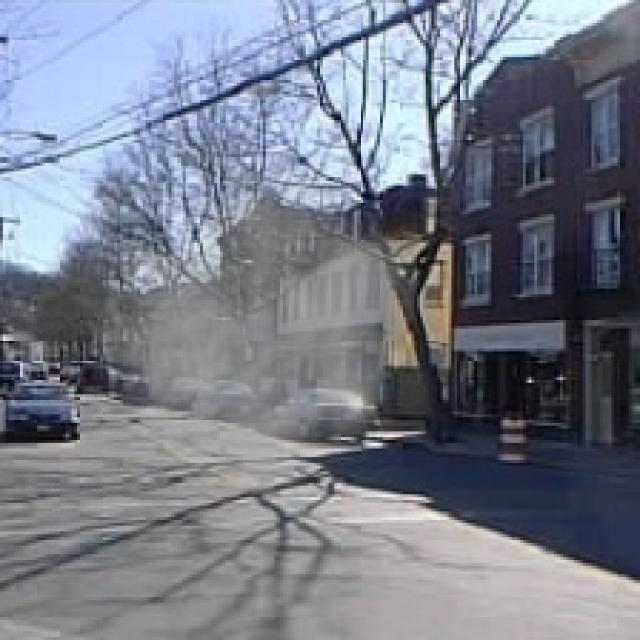smoke: (57, 154, 417, 517)
